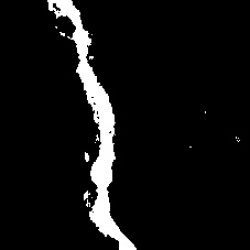crack: (47, 3, 136, 247)
pinhole: (76, 147, 92, 165), (181, 140, 197, 153), (230, 136, 242, 148), (81, 188, 90, 203), (202, 105, 209, 117)
